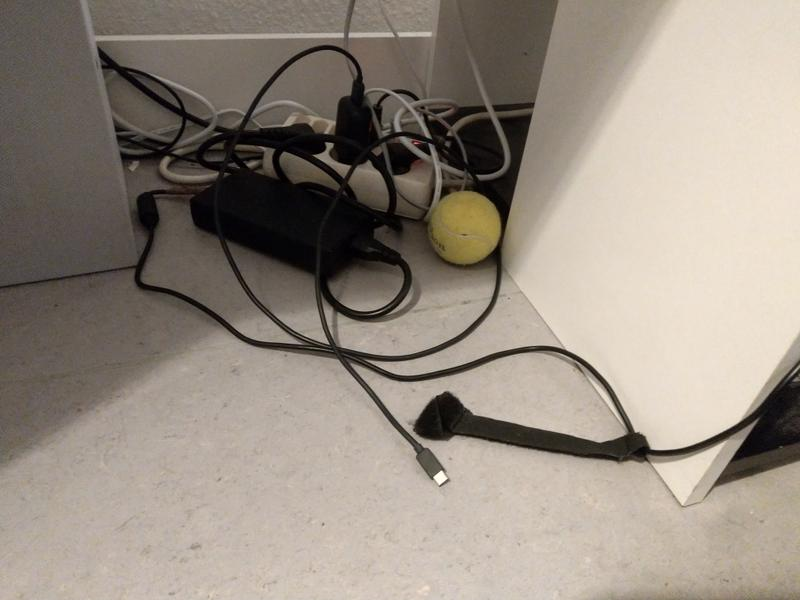Tennisball: (427, 186, 505, 270)
